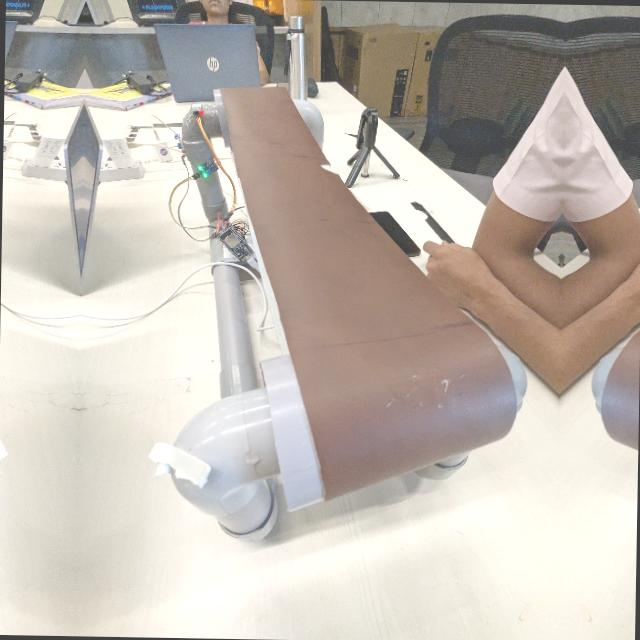belt_crack: (388, 366, 500, 411), (617, 370, 639, 413)
edge_damage: (316, 152, 342, 178)
